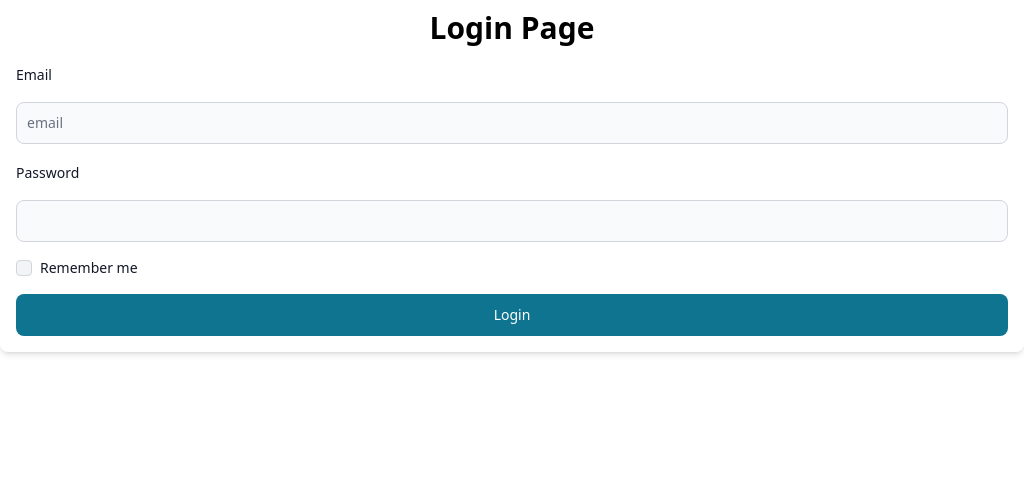
it: Login form validations › should display required messages as the next format: The [field name] field is required
Click the button "Login". click: (512, 315)
box: [16,294,1008,336]
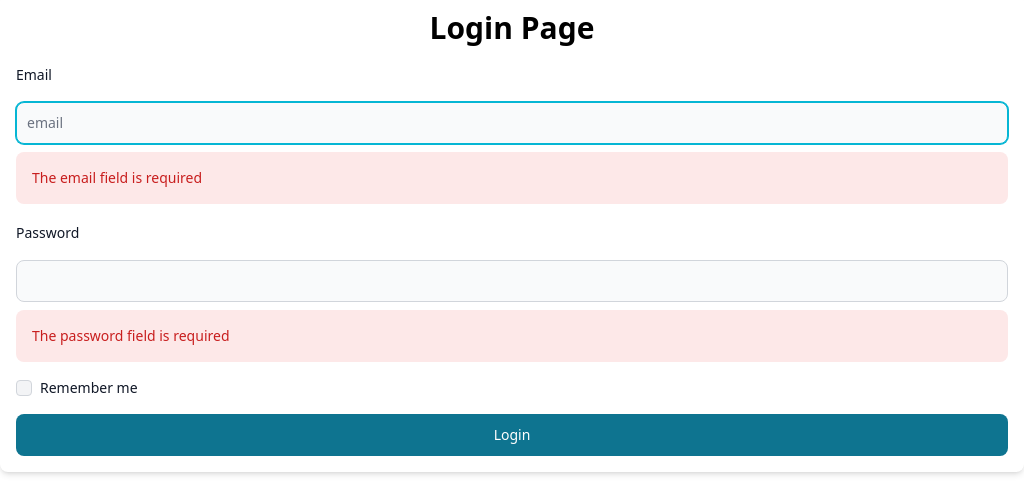
Result: the text "The email field is required" is shown at [32,168,202,187]
Result: the text "The password field is required" is shown at [32,326,230,345]
